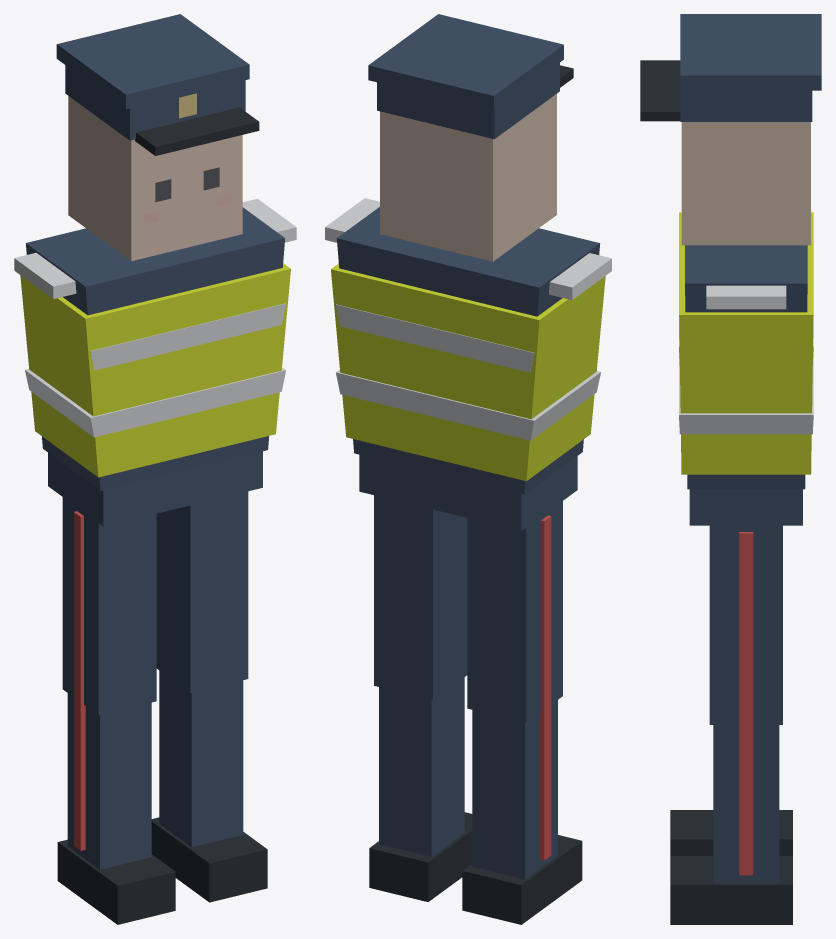
File: officer_body.glb
The picture shows the model from 3 angles, left to right: view 1: azimuth 30°, elevation 25°; view 2: azimuth 150°, elevation 25°; view 3: azimuth 270°, elevation 25°; orthographic projection. The views are drawn at different scales.
Visible parts, largest first — view 1: officer_body; view 2: officer_body; view 3: officer_body.
Boxes of the visible parts, x1,y1,x2,y2 form: officer_body: [14, 14, 296, 924]; officer_body: [325, 14, 611, 924]; officer_body: [640, 14, 821, 924].
Size of the model in its own units: 0.61 by 1.97 by 0.385.
